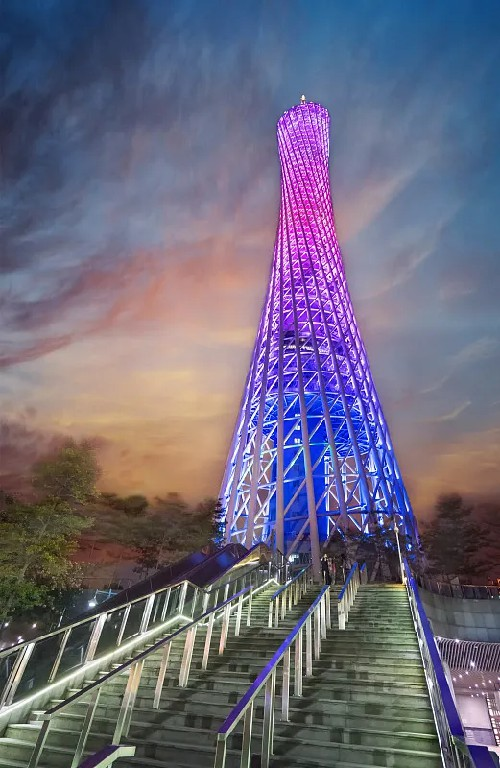Canton: (214, 89, 422, 577)
